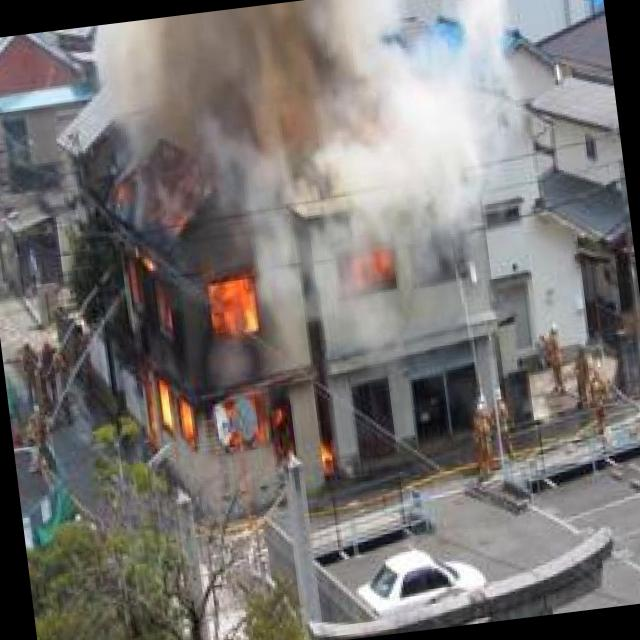Fire: (83, 176, 342, 509)
Smoke: (83, 0, 618, 186)
